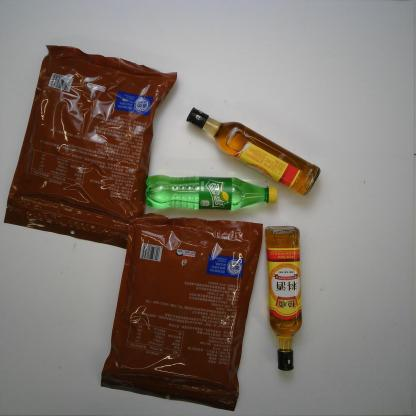Dried Food: (2, 42, 182, 253), (96, 206, 266, 412)
Drink: (146, 172, 282, 215)
Seasoner: (181, 105, 323, 196), (264, 224, 305, 374)
